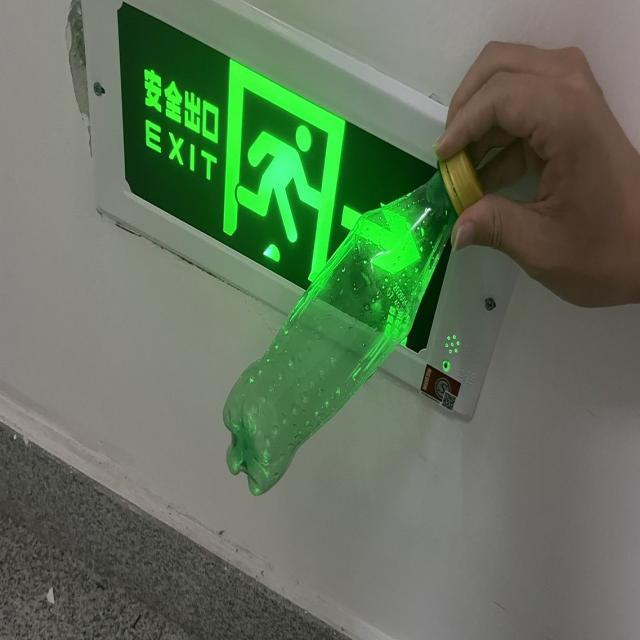empty: (223, 151, 481, 494)
